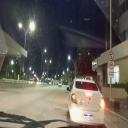NoEstacionar: (108, 50, 114, 61)
speed_limit_60: (109, 62, 114, 70)
